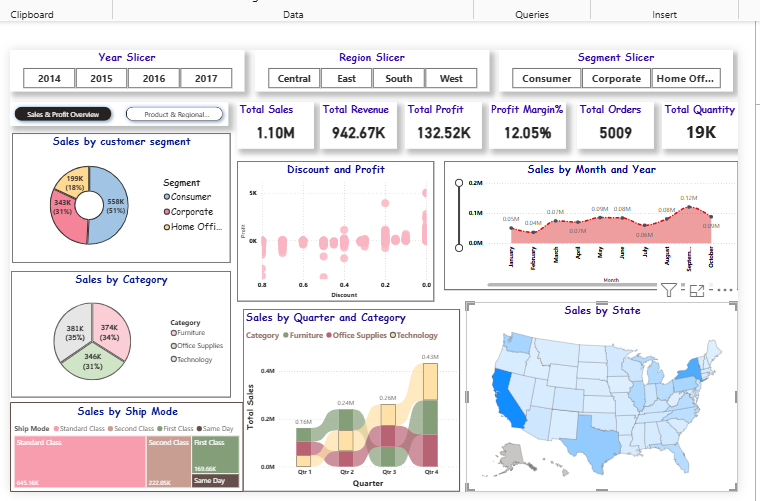

The page's visual inventory and layout, read from the dashboard file:
{"tool":"powerbi","page":{"name":"Sales & Profit Overview ","canvas":[1400,850],"ordinal":0},"visuals":[{"type":"card","title":"Total Sales","fields":{"Values":["measures_table.total-sales"]},"box":[436.9,100.3,147.9,90.1],"z":0},{"type":"card","title":"Total Revenue","fields":{"Values":["measures_table.Total Revenue"]},"box":[596.7,100.3,147.9,90.1],"z":1000},{"type":"card","title":"Total Profit","fields":{"Values":["measures_table.Total Profit"]},"box":[759.9,100.3,147.9,90.1],"z":2000},{"type":"card","title":"Profit Margin%","fields":{"Values":["measures_table.Profit Margin %"]},"box":[921.4,100.3,147.9,90.1],"z":3000},{"type":"card","title":"Total Orders","fields":{"Values":["measures_table.total orders"]},"box":[1089.7,100.3,147.9,90.1],"z":4000},{"type":"donutChart","title":"Sales by customer segment","fields":{"Y":["measures_table.Total Sales"],"Category":["Orders.Segment"]},"box":[3.4,159.8,419.9,249.9],"z":5000},{"type":"pieChart","title":"Sales by Category","fields":{"Y":["measures_table.Total Sales"],"Series":["Orders.Category"]},"box":[1.8,424.4,422.6,242.5],"z":6000},{"type":"slicer","title":"Region Slicer","fields":{"Values":["Orders.Region"]},"box":[470.9,0,450.5,79.9],"z":7000},{"type":"slicer","title":"Segment Slicer","fields":{"Values":["Orders.Segment"]},"box":[940.1,0,450,80],"z":8000},{"type":"pageNavigator","box":[0,100.3,419.9,45.9],"z":9000},{"type":"card","title":"Total Quantity","fields":{"Values":["measures_table.Total Quantity"]},"box":[1252.9,100.3,147.9,90.1],"z":10000},{"type":"treemap","title":" Sales by Ship Mode","fields":{"Values":["measures_table.Total Sales"],"Group":["Orders.Ship Mode"]},"box":[0,676.6,448.8,173.4],"z":11000},{"type":"slicer","title":"Year Slicer","fields":{"Values":["calendar.Date.Variation.Date Hierarchy.Year"]},"box":[0,0,450.5,79.9],"z":12000},{"type":"lineChart","title":"Sales by Month and Year","fields":{"Category":["calendar.Date.Variation.Date Hierarchy.Year","calendar.Date.Variation.Date Hierarchy.Quarter","calendar.Date.Variation.Date Hierarchy.Month"],"Y":["Sum(Orders.Sales)"]},"box":[834.7,214.2,566.1,248.2],"z":13000},{"type":"scatterChart","fields":{"Y":["Orders.Profit"],"X":["Orders.Discount"]},"box":[436.9,214.2,379.1,270.3],"z":14000},{"type":"filledMap","title":" Sales by State","fields":{"Category":["Orders.State"]},"box":[877.2,484.5,523.6,365.5],"z":16000},{"type":"ribbonChart","title":" Sales by Quarter and Category","fields":{"Y":["measures_table.Total Sales"],"Category":["calendar.Date.Variation.Date Hierarchy.Quarter"],"Series":["Orders.Category"]},"box":[448.3,497.9,417.1,350.9],"z":16002}]}

Visuals, with their boxes in screenshot pixels (x1, y1, x2, y2):
"Total Sales" card: bbox=(236, 101, 312, 148)
"Total Revenue" card: bbox=(318, 101, 394, 148)
"Total Profit" card: bbox=(402, 101, 479, 148)
"Profit Margin%" card: bbox=(486, 101, 562, 148)
"Total Orders" card: bbox=(573, 101, 649, 148)
"Sales by customer segment" donutChart: bbox=(12, 132, 228, 261)
"Sales by Category" pieChart: bbox=(11, 269, 229, 394)
"Region Slicer" slicer: bbox=(253, 49, 486, 91)
"Segment Slicer" slicer: bbox=(495, 49, 728, 91)
pageNavigator: bbox=(10, 101, 227, 125)
"Total Quantity" card: bbox=(657, 101, 733, 148)
" Sales by Ship Mode" treemap: bbox=(10, 399, 242, 488)
"Year Slicer" slicer: bbox=(10, 49, 243, 91)
"Sales by Month and Year" lineChart: bbox=(441, 160, 733, 288)
scatterChart - Orders.Profit x Orders.Discount: bbox=(236, 160, 431, 300)
" Sales by State" filledMap: bbox=(463, 300, 733, 488)
" Sales by Quarter and Category" ribbonChart: bbox=(241, 307, 457, 488)
